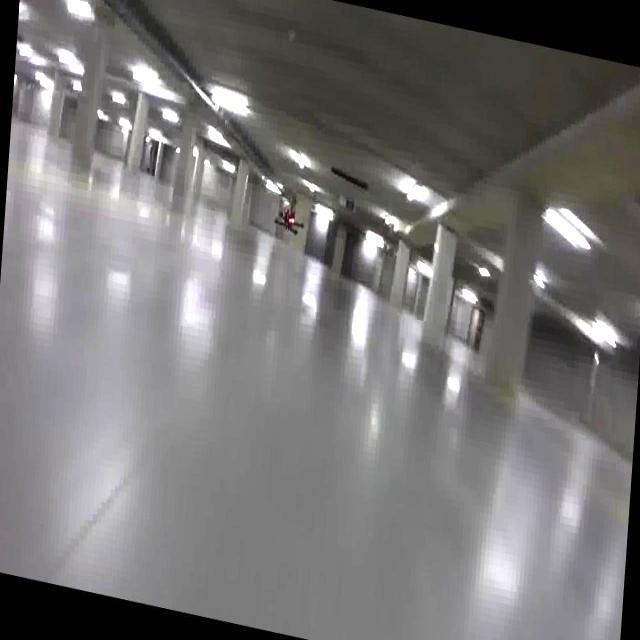drone: (266, 192, 310, 245)
